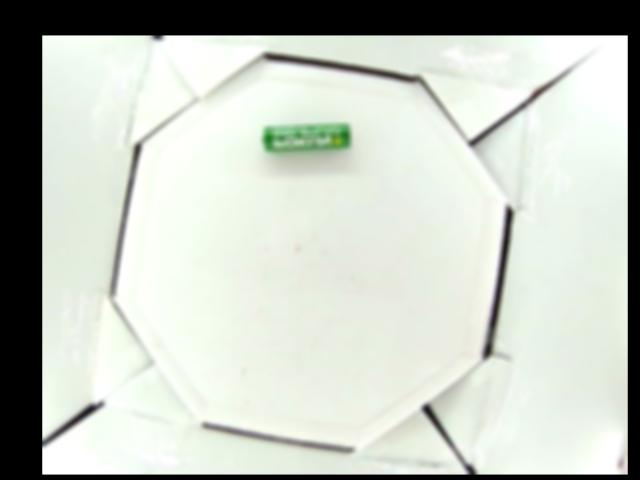Battery: (260, 123, 352, 152)
